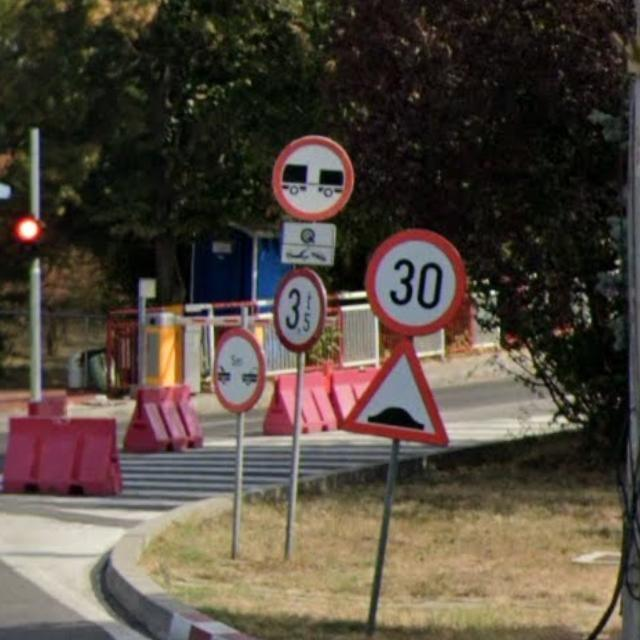forb_speed_over_30: (365, 229, 468, 339)
